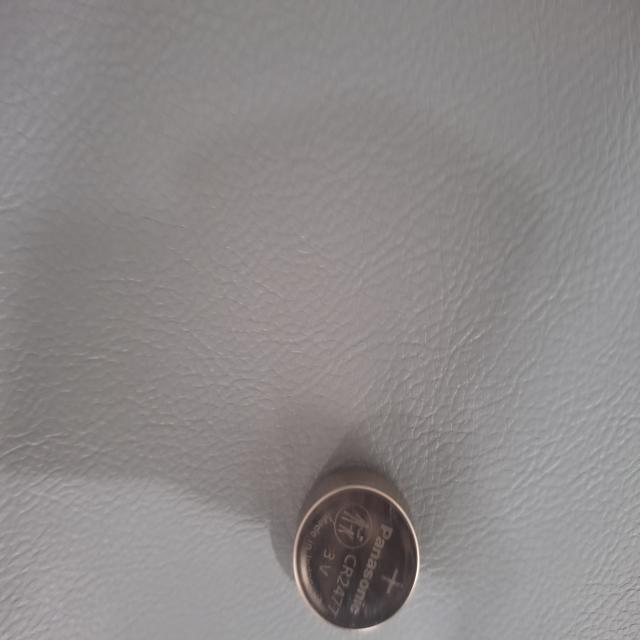COIN: (349, 294, 475, 462)
